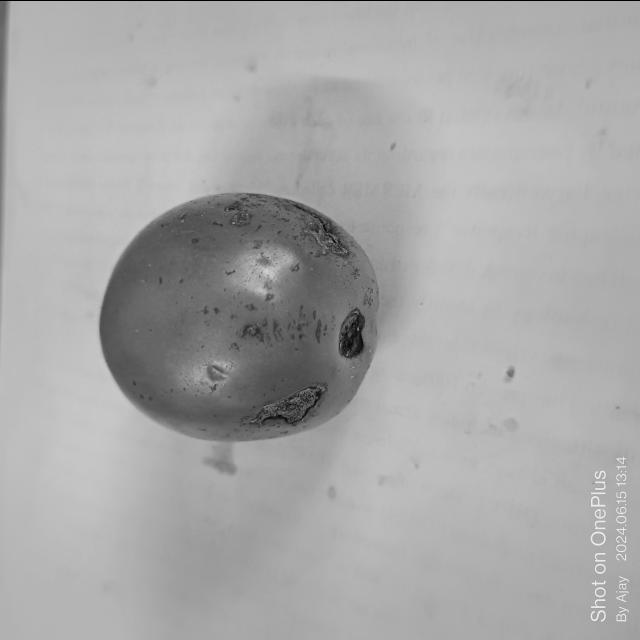Bacterial_Spot: (228, 188, 352, 266), (238, 382, 328, 436), (234, 314, 268, 348)
